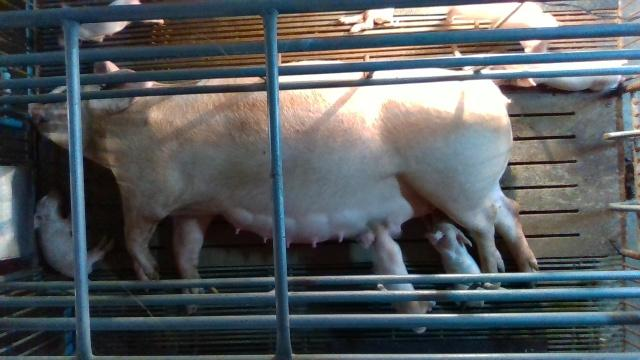piglet: (359, 216, 427, 333), (34, 187, 115, 278), (446, 1, 559, 53), (425, 210, 485, 307), (482, 59, 629, 92), (59, 0, 164, 42)
sow-sleep-lactate: (27, 60, 537, 315)
